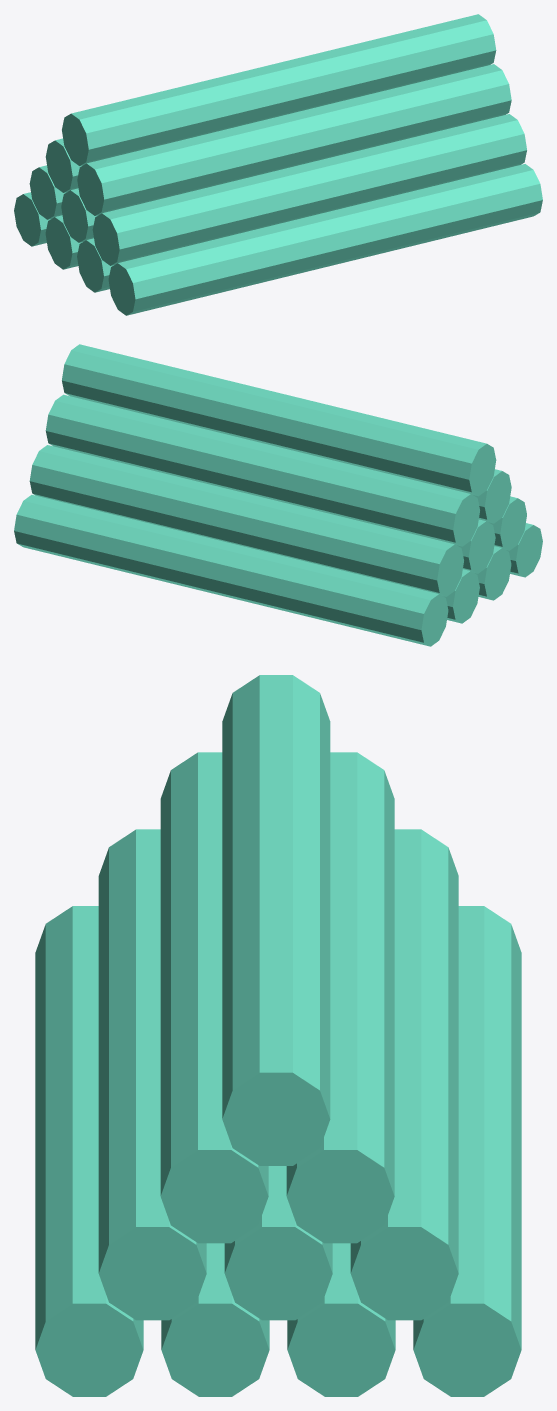
File: Tronco Empilhados.fbx
3 views of the same model, one above another, from view 1: azimuth 30°, elevation 25°; view 2: azimuth 150°, elevation 25°; view 3: azimuth 270°, elevation 25° (orthographic). The views are drawn at different scales.
Visible parts, largest first — view 1: Troncos empilhados; view 2: Troncos empilhados; view 3: Troncos empilhados.
Part boxes in pixels (left/top/right/bottom): Troncos empilhados: left=14, top=14, right=542, bottom=315; Troncos empilhados: left=14, top=344, right=542, bottom=646; Troncos empilhados: left=35, top=675, right=521, bottom=1396.
Bounding box in the file's own units: 205 × 77.86 × 106.
